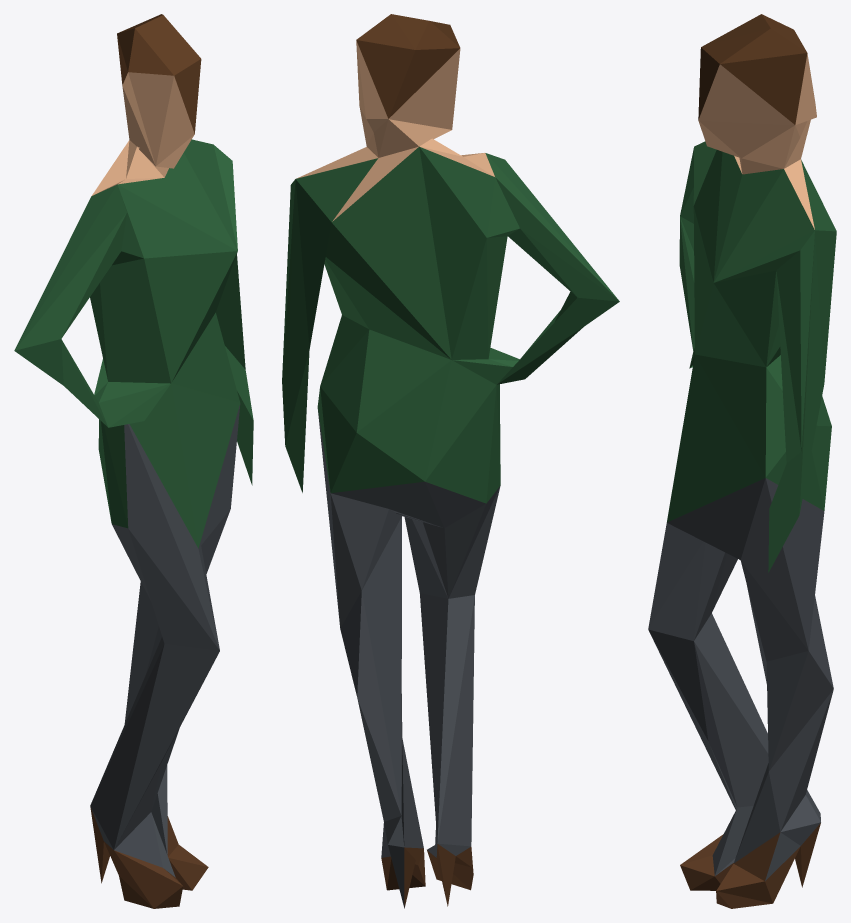
The model's file is walker-7.glb.
The picture shows the model from 3 angles, left to right: view 1: azimuth 30°, elevation 25°; view 2: azimuth 150°, elevation 25°; view 3: azimuth 270°, elevation 25°; orthographic projection. The views are drawn at different scales.
Parts seen in each view (by area): view 1: Woman10; view 2: Woman10; view 3: Woman10.
Boxes of the visible parts, x1=… form: Woman10: x1=14, y1=14, x2=253, y2=908; Woman10: x1=282, y1=14, x2=619, y2=908; Woman10: x1=648, y1=14, x2=836, y2=908.
Size of the model in its own units: 0.5144 by 1.51 by 0.2964.
